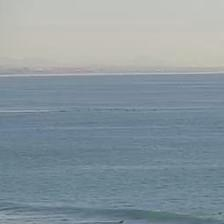surfer: (214, 211, 223, 215), (116, 220, 125, 223)
